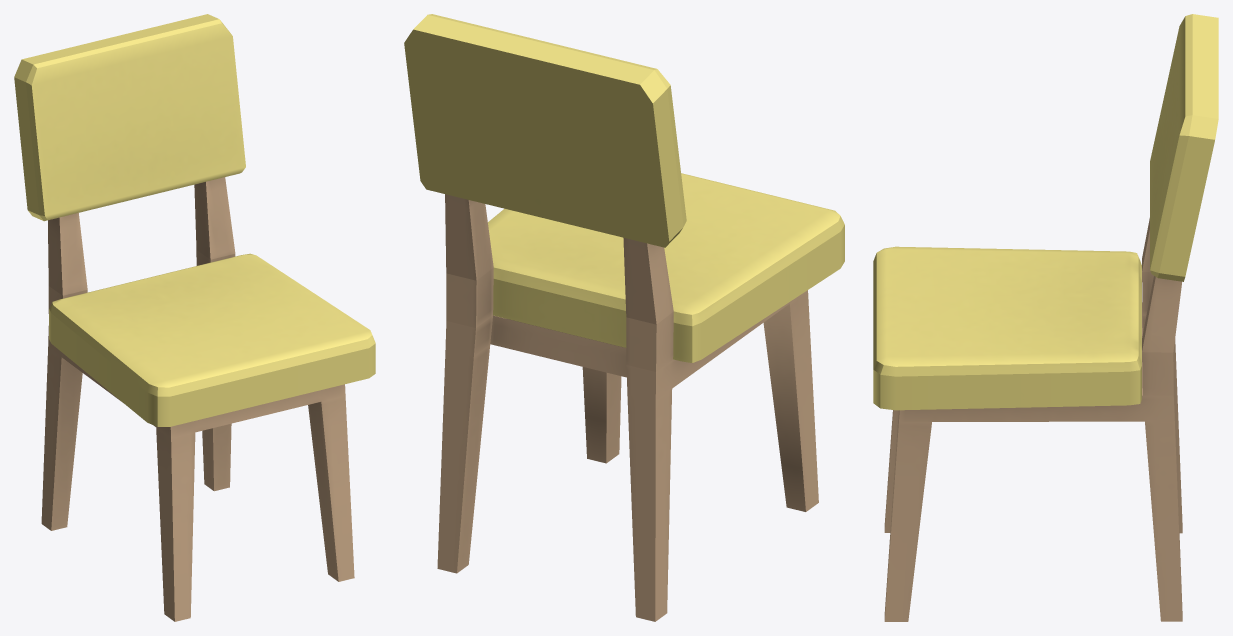
The model's file is Chiar_Yellow.fbx.
3 views of the same model, side by side, from view 1: azimuth 30°, elevation 25°; view 2: azimuth 150°, elevation 25°; view 3: azimuth 270°, elevation 25° (orthographic). The views are drawn at different scales.
Parts seen in each view (by area): view 1: Chair_Yellow; view 2: Chair_Yellow; view 3: Chair_Yellow.
Part boxes in pixels (x1=…): Chair_Yellow: x1=14, y1=14, x2=375, y2=621; Chair_Yellow: x1=404, y1=14, x2=844, y2=621; Chair_Yellow: x1=873, y1=14, x2=1218, y2=621.
Bounding box in the file's own units: 48.17 × 93.48 × 57.54.
